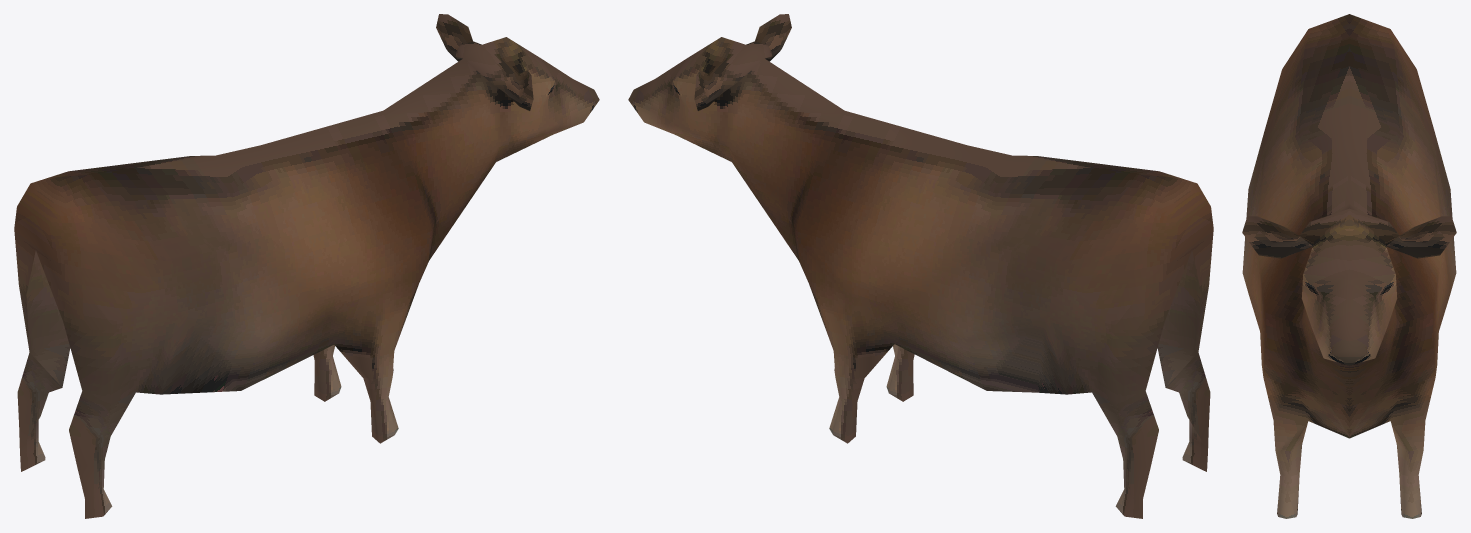
File: stage-prin-p8-0.glb
The picture shows the model from 3 angles, left to right: view 1: azimuth 30°, elevation 25°; view 2: azimuth 150°, elevation 25°; view 3: azimuth 270°, elevation 25°; orthographic projection. The views are drawn at different scales.
Size of the model in its own units: 9.66 by 5.71 by 2.9.
Materials: 1 (1 with a texture image).
